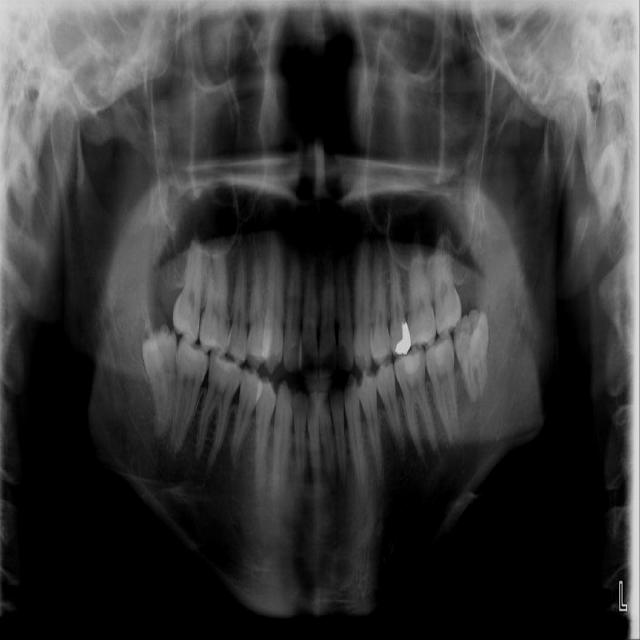Filling: (395, 321, 412, 354), (428, 340, 449, 364), (400, 351, 419, 375)
impacted tooth: (142, 325, 179, 440), (450, 311, 486, 402)
